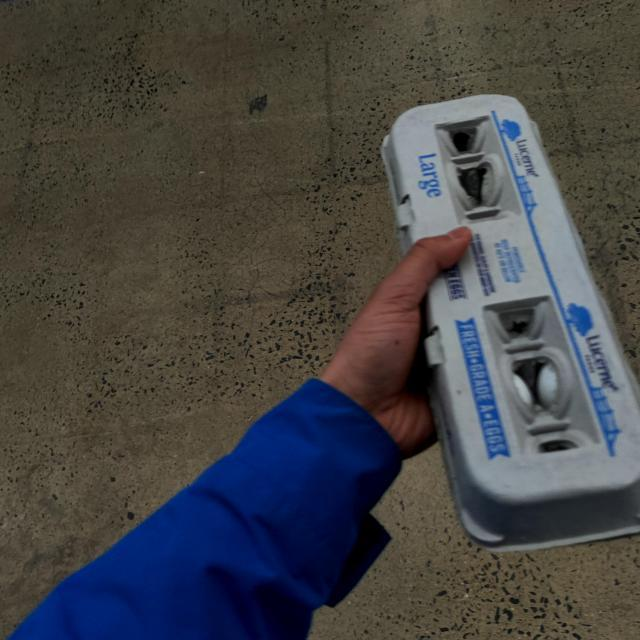egg: (369, 85, 640, 568)
